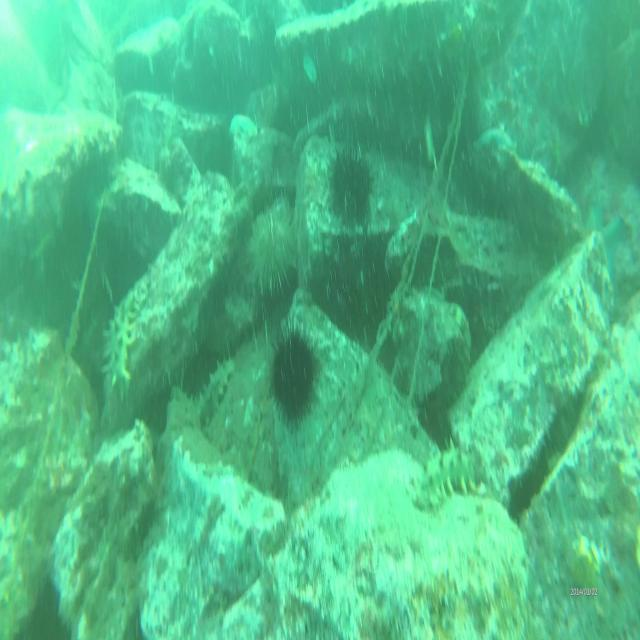echinus: (264, 316, 327, 432), (322, 142, 384, 234), (250, 207, 298, 301)
holothurian: (409, 437, 488, 513), (101, 273, 148, 391), (195, 353, 239, 428)
